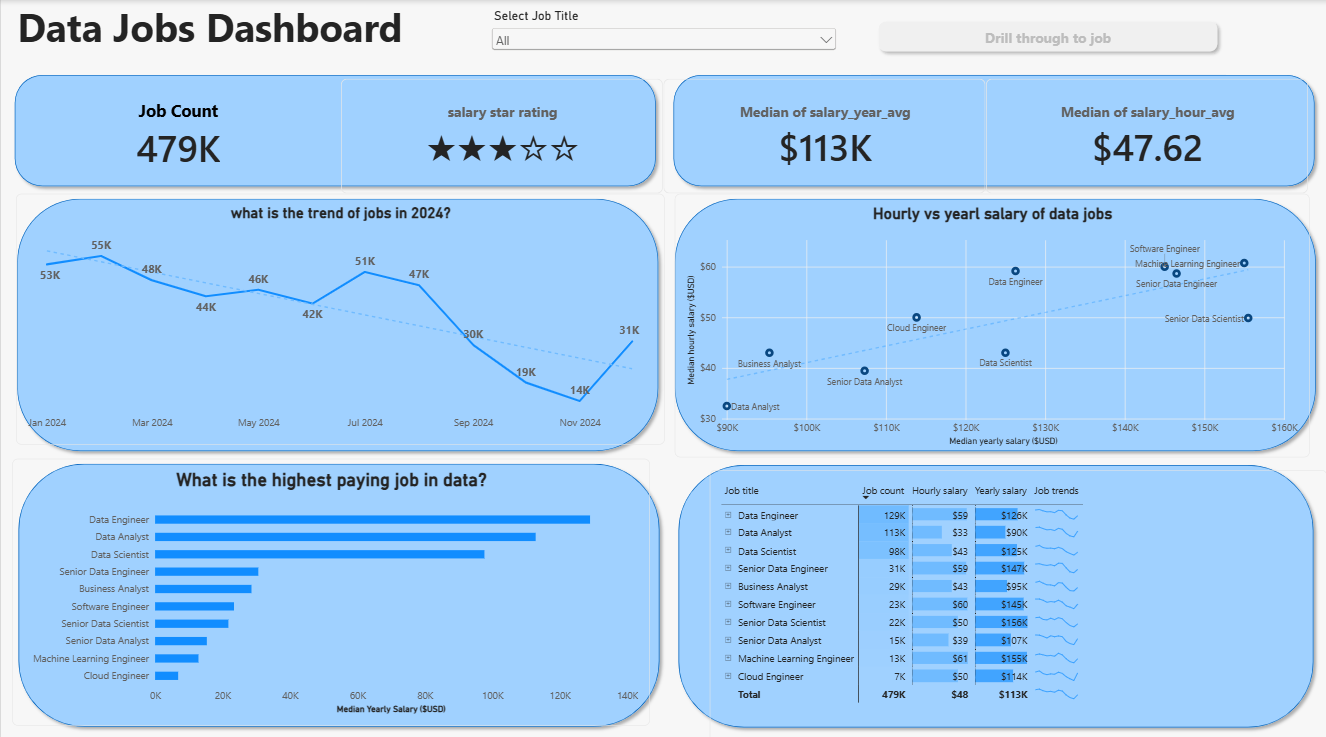

The dashboard page shown, as its layout file describes it:
{"tool":"powerbi","page":{"name":"Data jobs dashboard","canvas":[1920,1080],"ordinal":0},"visuals":[{"type":"group","id":"g1","title":"Group 1","box":[11.6,100.2,1901.9,961.6],"z":0},{"type":"shape","box":[11.6,100.2,946.1,179.2],"z":0,"group":"g1"},{"type":"textbox","box":[23.1,0,682.1,79],"z":1000},{"type":"shape","box":[965.4,100.2,946.1,179.2],"z":1000,"group":"g1"},{"type":"slicer","fields":{"Values":["job_postings_flat.job_title_short"]},"box":[705.3,13.5,508.5,77.8],"z":2000},{"type":"shape","box":[15.5,279.4,946.1,383.5],"z":2000,"group":"g1"},{"type":"cardVisual","fields":{"Data":["CountNonNull(job_postings_flat.job_title_short)"]},"box":[23.5,114,466.9,166.5],"z":3000},{"type":"shape","box":[17.4,662.9,946.1,398.9],"z":3000,"group":"g1"},{"type":"cardVisual","fields":{"Data":["job_postings_flat.Median of salary_year_avg star rating"]},"box":[492.2,114,466.9,166.5],"z":4000},{"type":"shape","box":[967.4,279.4,946.1,383.5],"z":4000,"group":"g1"},{"type":"cardVisual","fields":{"Data":["Median(job_postings_flat.salary_year_avg)"]},"box":[959.1,114,466.9,166.5],"z":5000},{"type":"shape","box":[966.1,662.6,928.4,398.1],"z":5000,"group":"g1"},{"type":"cardVisual","fields":{"Data":["Median(job_postings_flat.salary_hour_avg)"]},"box":[1426,114,466.9,166.5],"z":6000},{"type":"lineChart","title":"what is the trend of jobs in 2024?","fields":{"Category":["job_postings_flat.job_posted_date.Variation.Date Hierarchy.Year","job_postings_flat.job_posted_date.Variation.Date Hierarchy.Quarter","job_postings_flat.job_posted_date.Variation.Date Hierarchy.Month","job_postings_flat.job_posted_date.Variation.Date Hierarchy.Day"],"Y":["CountNonNull(job_postings_flat.job_title_short)"]},"box":[22.6,280,939.2,363.5],"z":7000},{"type":"barChart","title":"What is the highest paying job in data?","fields":{"Category":["job_postings_flat.job_title_short"],"Y":["CountNonNull(job_postings_flat.job_title_short)"]},"box":[15.8,663.8,923.4,386.1],"z":8000},{"type":"scatterChart","title":"Hourly vs yearl salary of data jobs ","fields":{"Series":["job_postings_flat.job_title_short"],"X":["Median(job_postings_flat.salary_year_avg)"],"Y":["Median(job_postings_flat.salary_hour_avg)"]},"box":[975.4,280.5,919.3,381.8],"z":9000},{"type":"pivotTable","fields":{"Rows":["job_postings_flat.job_title_short","job_postings_flat.job_posted_date.Variation.Date Hierarchy.Quarter"],"Values":["CountNonNull(job_postings_flat.job_title_short)","Median(job_postings_flat.salary_hour_avg)","Median(job_postings_flat.salary_year_avg)","SparklineData(CountNonNull(job_postings_flat.job_title_short)_[job_postings_flat.job_posted_date.Variation.Date Hierarch"]},"box":[1026.1,680.4,890.4,399.9],"z":10000},{"type":"actionButton","box":[1262.2,21.2,508.7,61.7],"z":11000}]}

Visuals, with their boxes in screenshot pixels (x1, y1, x2, y2), scaled from the page's 1920x1080 canvas onto the 1326x737 screenshot:
"Group 1" group: 8,68,1322,725
shape: 8,68,661,191
textbox: 16,0,487,54
shape: 667,68,1320,191
slicer - job_postings_flat.job_title_short: 487,9,838,62
shape: 11,191,664,452
cardVisual - CountNonNull(job_postings_flat.job_title_short): 16,78,339,191
shape: 12,452,665,725
cardVisual - job_postings_flat.Median of salary_year_avg star rating: 340,78,662,191
shape: 668,191,1322,452
cardVisual - Median(job_postings_flat.salary_year_avg): 662,78,985,191
shape: 667,452,1308,724
cardVisual - Median(job_postings_flat.salary_hour_avg): 985,78,1307,191
"what is the trend of jobs in 2024?" lineChart: 16,191,664,439
"What is the highest paying job in data?" barChart: 11,453,649,716
"Hourly vs yearl salary of data jobs " scatterChart: 674,191,1309,452
pivotTable - job_postings_flat.job_title_short x job_postings_flat.job_posted_date.Variation.Date Hierarchy.Quarter: 709,464,1324,736
actionButton: 872,14,1223,57
